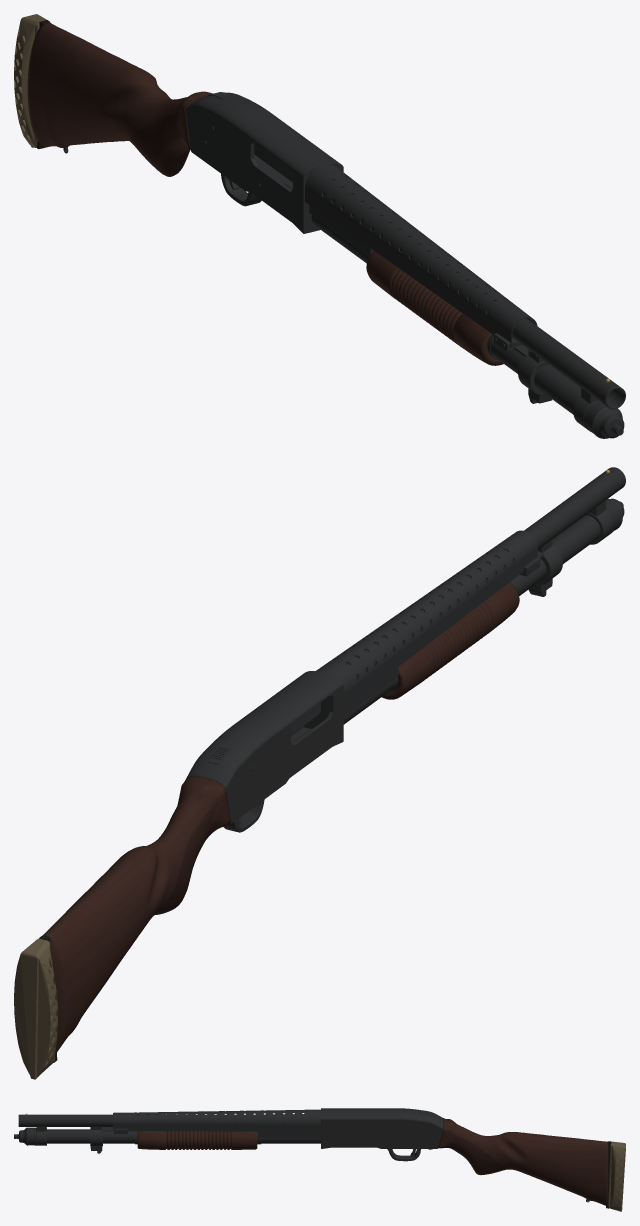
3 renders of one model, top to bottom at view 1: azimuth 30°, elevation 25°; view 2: azimuth 150°, elevation 25°; view 3: azimuth 270°, elevation 25°, orthographic. The views are drawn at different scales.
Visible parts, largest first — view 1: SM_M590; view 2: SM_M590; view 3: SM_M590.
Boxes of the visible parts, left/top/right/bottom form: SM_M590: left=14, top=14, right=625, bottom=438; SM_M590: left=14, top=467, right=625, bottom=1079; SM_M590: left=14, top=1108, right=625, bottom=1211.
Size of the model in its own units: 4.76 by 104 by 18.92.
